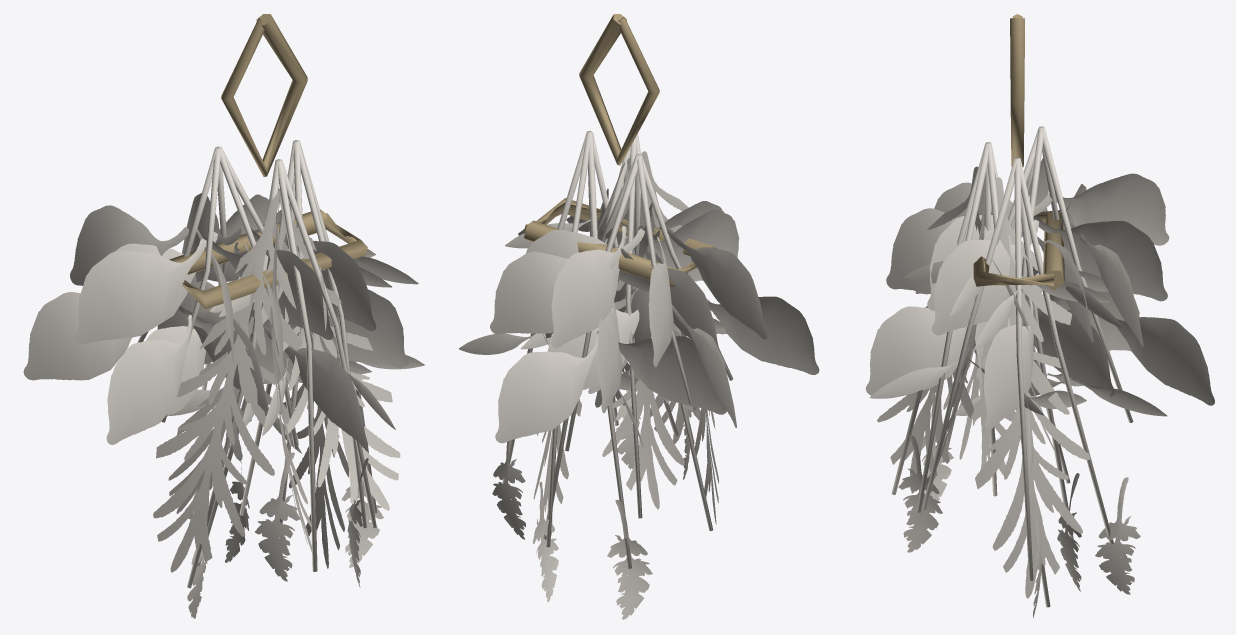
File: CM_BotanicalPlanterKit01_Hanging_Mixed.fbx
The picture shows the model from 3 angles, left to right: view 1: azimuth 30°, elevation 25°; view 2: azimuth 150°, elevation 25°; view 3: azimuth 270°, elevation 25°; orthographic projection. The views are drawn at different scales.
Parts seen in each view (by area): view 1: CM_BotanicalPlanterKit01_Hanging_Mixed_FoliageDry, CM_BotanicalPlanterKit01_Hanging_Mixed_Twine; view 2: CM_BotanicalPlanterKit01_Hanging_Mixed_FoliageDry, CM_BotanicalPlanterKit01_Hanging_Mixed_Twine; view 3: CM_BotanicalPlanterKit01_Hanging_Mixed_FoliageDry, CM_BotanicalPlanterKit01_Hanging_Mixed_Twine.
Part boxes in pixels (x1,y1,x2,y2): CM_BotanicalPlanterKit01_Hanging_Mixed_FoliageDry: [23, 140, 424, 618]; CM_BotanicalPlanterKit01_Hanging_Mixed_Twine: [169, 14, 367, 309]; CM_BotanicalPlanterKit01_Hanging_Mixed_FoliageDry: [459, 130, 819, 619]; CM_BotanicalPlanterKit01_Hanging_Mixed_Twine: [523, 14, 716, 287]; CM_BotanicalPlanterKit01_Hanging_Mixed_FoliageDry: [865, 126, 1214, 617]; CM_BotanicalPlanterKit01_Hanging_Mixed_Twine: [973, 14, 1064, 290].
Bounding box in the file's own units: 0.2781 × 0.4513 × 0.2513.
